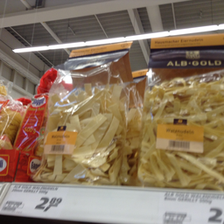pasta: (30, 46, 136, 185), (140, 35, 223, 191)
